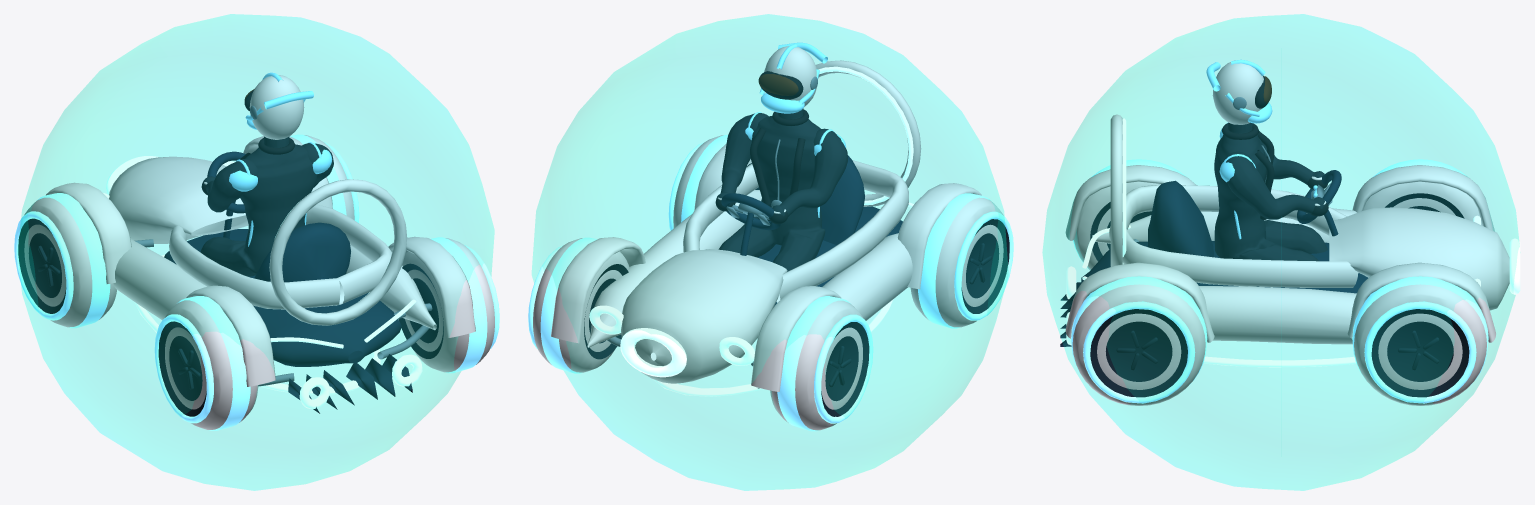
Rendered from civic.glb.
3 renders of one model, left to right at view 1: azimuth 30°, elevation 25°; view 2: azimuth 150°, elevation 25°; view 3: azimuth 270°, elevation 25°, orthographic.
Visible parts, largest first — view 1: civic:aegis-shield, civic:coachwork-batch.001, civic:coachwork-batch, civic:torso, civic:rounded-wheel-shell.002, civic:rounded-wheel-shell, civic:rounded-wheel-shell.003, civic:helmet-shell, civic:translucent-tire-band.002, civic:translucent-tire-band, civic:recessed-colored-hub.002, civic:recessed-colored-hub (+13 smaller); view 2: civic:aegis-shield, civic:coachwork-batch.001, civic:torso, civic:rounded-wheel-shell, civic:rounded-wheel-shell.002, civic:coachwork-batch, civic:rounded-wheel-shell.001, civic:arm-l-mesh, civic:translucent-tire-band, civic:translucent-tire-band.002, civic:recessed-colored-hub, civic:recessed-colored-hub.002 (+18 smaller); view 3: civic:aegis-shield, civic:coachwork-batch.001, civic:torso, civic:rounded-wheel-shell.001, civic:rounded-wheel-shell.003, civic:coachwork-batch, civic:recessed-colored-hub.001, civic:recessed-colored-hub.003, civic:arm-r-mesh, civic:wheel-light-ring.003, civic:wheel-light-ring.001, civic:rounded-wheel-shell (+11 smaller).
Boxes of the visible parts, x1,y1,x2,y2 form: civic:aegis-shield: [18, 14, 494, 490]; civic:coachwork-batch.001: [46, 136, 475, 386]; civic:coachwork-batch: [164, 200, 412, 413]; civic:torso: [200, 136, 317, 276]; civic:rounded-wheel-shell.002: [165, 300, 258, 429]; civic:rounded-wheel-shell: [24, 197, 116, 327]; civic:rounded-wheel-shell.003: [402, 238, 494, 372]; civic:helmet-shell: [249, 75, 304, 139]; civic:translucent-tire-band.002: [177, 296, 250, 430]; civic:translucent-tire-band: [37, 193, 110, 328]; civic:recessed-colored-hub.002: [158, 321, 206, 416]; civic:recessed-colored-hub: [18, 218, 66, 313]; civic:aegis-shield: [532, 14, 1008, 490]; civic:coachwork-batch.001: [551, 60, 981, 391]; civic:torso: [718, 108, 825, 271]; civic:rounded-wheel-shell: [770, 300, 862, 430]; civic:rounded-wheel-shell.002: [910, 197, 1003, 327]; civic:coachwork-batch: [740, 155, 902, 306]; civic:rounded-wheel-shell.001: [533, 238, 629, 372]; civic:arm-l-mesh: [772, 128, 847, 216]; civic:translucent-tire-band: [777, 296, 850, 431]; civic:translucent-tire-band.002: [918, 193, 990, 328]; civic:recessed-colored-hub: [821, 322, 869, 416]; civic:recessed-colored-hub.002: [961, 219, 1009, 313]; civic:aegis-shield: [1042, 14, 1519, 490]; civic:coachwork-batch.001: [1065, 114, 1509, 344]; civic:torso: [1214, 122, 1327, 261]; civic:rounded-wheel-shell.001: [1354, 284, 1486, 405]; civic:rounded-wheel-shell.003: [1072, 284, 1205, 405]; civic:coachwork-batch: [1060, 180, 1367, 346]; civic:recessed-colored-hub.001: [1371, 309, 1469, 397]; civic:recessed-colored-hub.003: [1090, 309, 1187, 397]; civic:arm-r-mesh: [1223, 151, 1324, 219]; civic:wheel-light-ring.003: [1083, 301, 1195, 403]; civic:wheel-light-ring.001: [1364, 301, 1476, 403]; civic:rounded-wheel-shell: [1363, 181, 1482, 225].
Size of the model in its own units: 4.3 by 4.3 by 4.3.
